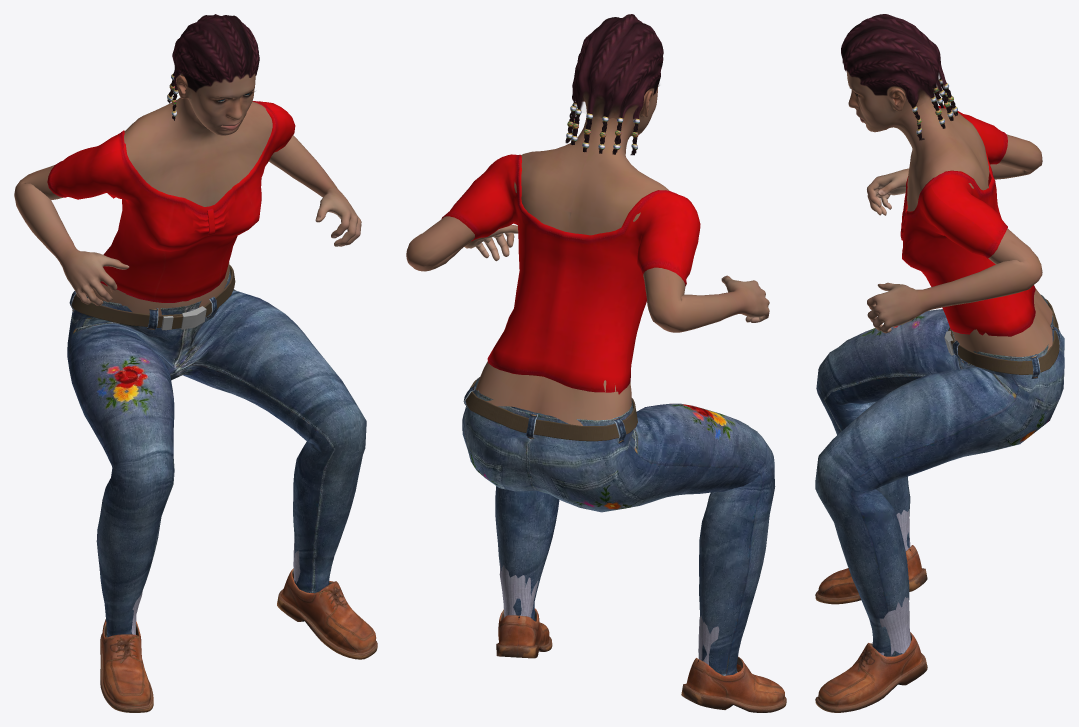
Rendered from donna-02.glb.
The picture shows the model from 3 angles, left to right: view 1: azimuth 30°, elevation 25°; view 2: azimuth 150°, elevation 25°; view 3: azimuth 270°, elevation 25°; orthographic projection. The views are drawn at different scales.
Visible parts, largest first — view 1: Human.mindfront_female_trousers_1, Human, Human.punkduck_retro_top, Human.shoes01, Human.elvs_braided_rows; view 2: Human.mindfront_female_trousers_1, Human.punkduck_retro_top, Human, Human.elvs_braided_rows, Human.shoes01; view 3: Human.mindfront_female_trousers_1, Human, Human.punkduck_retro_top, Human.shoes01, Human.elvs_braided_rows.
Part boxes in pixels (x1,y1,x2,y2): Human.mindfront_female_trousers_1: (67,265,366,637); Human: (14,73,361,315); Human.punkduck_retro_top: (47,101,295,302); Human.shoes01: (100,539,377,712); Human.elvs_braided_rows: (167,14,259,120); Human.mindfront_female_trousers_1: (462,377,775,675); Human.punkduck_retro_top: (441,154,700,394); Human: (406,86,769,425); Human.elvs_braided_rows: (565,14,663,155); Human.shoes01: (496,562,786,712); Human.mindfront_female_trousers_1: (815,294,1064,656); Human: (846,71,1052,356); Human.punkduck_retro_top: (900,105,1035,336); Human.shoes01: (815,510,927,712); Human.elvs_braided_rows: (841,14,957,140).
Bounding box in the file's own units: 0.6612 × 1.43 × 0.5112.
Materials: 13 (13 with a texture image).
